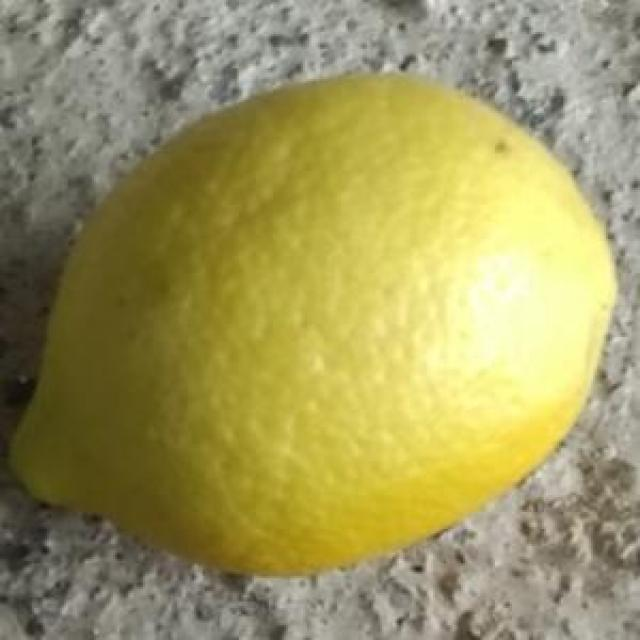lemon: (6, 66, 614, 582)
